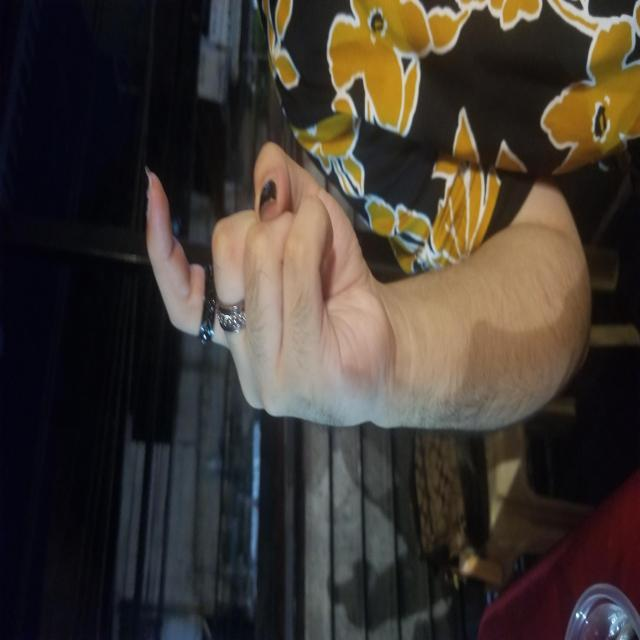X: (209, 144, 501, 390)
